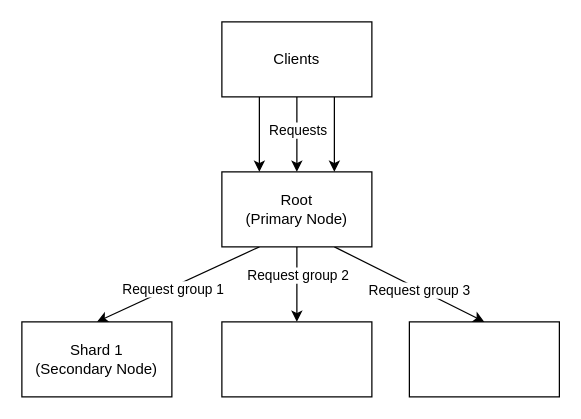
Some shapes in this 581 by 419 pixel diagram are drawn without their labels. The centre of each missing label's shape, as x and y in pixels:
"Shard 2 (Secondary Node)" belongs at point 296,359.
"Shard 3 (Secondary Node)" belongs at point 483,359.
